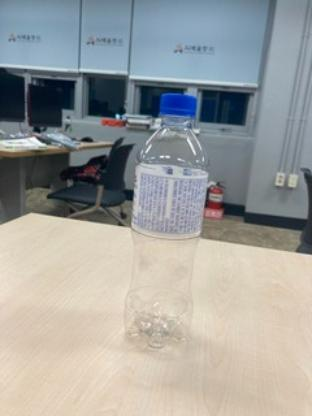Plastic Bottle: (123, 84, 211, 364)
